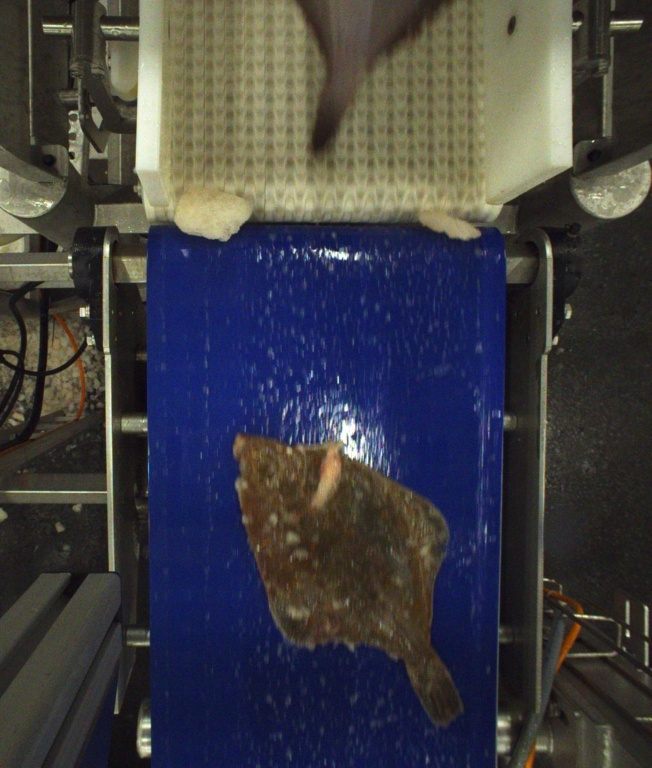PLE: (234, 433, 465, 729)
